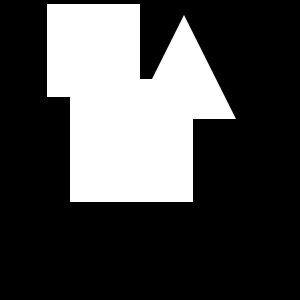circle: (70, 79, 193, 202), (47, 4, 140, 97)
triangle: (132, 15, 236, 119)
